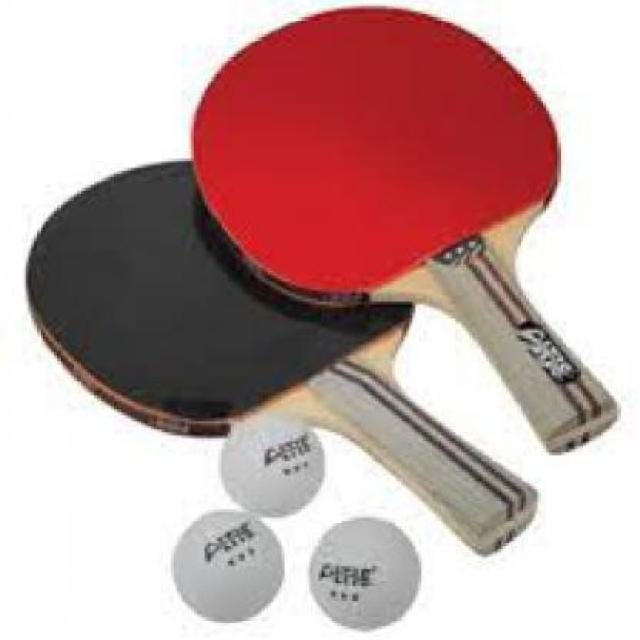table_tennis_racket: (181, 1, 564, 314), (16, 156, 422, 433)
